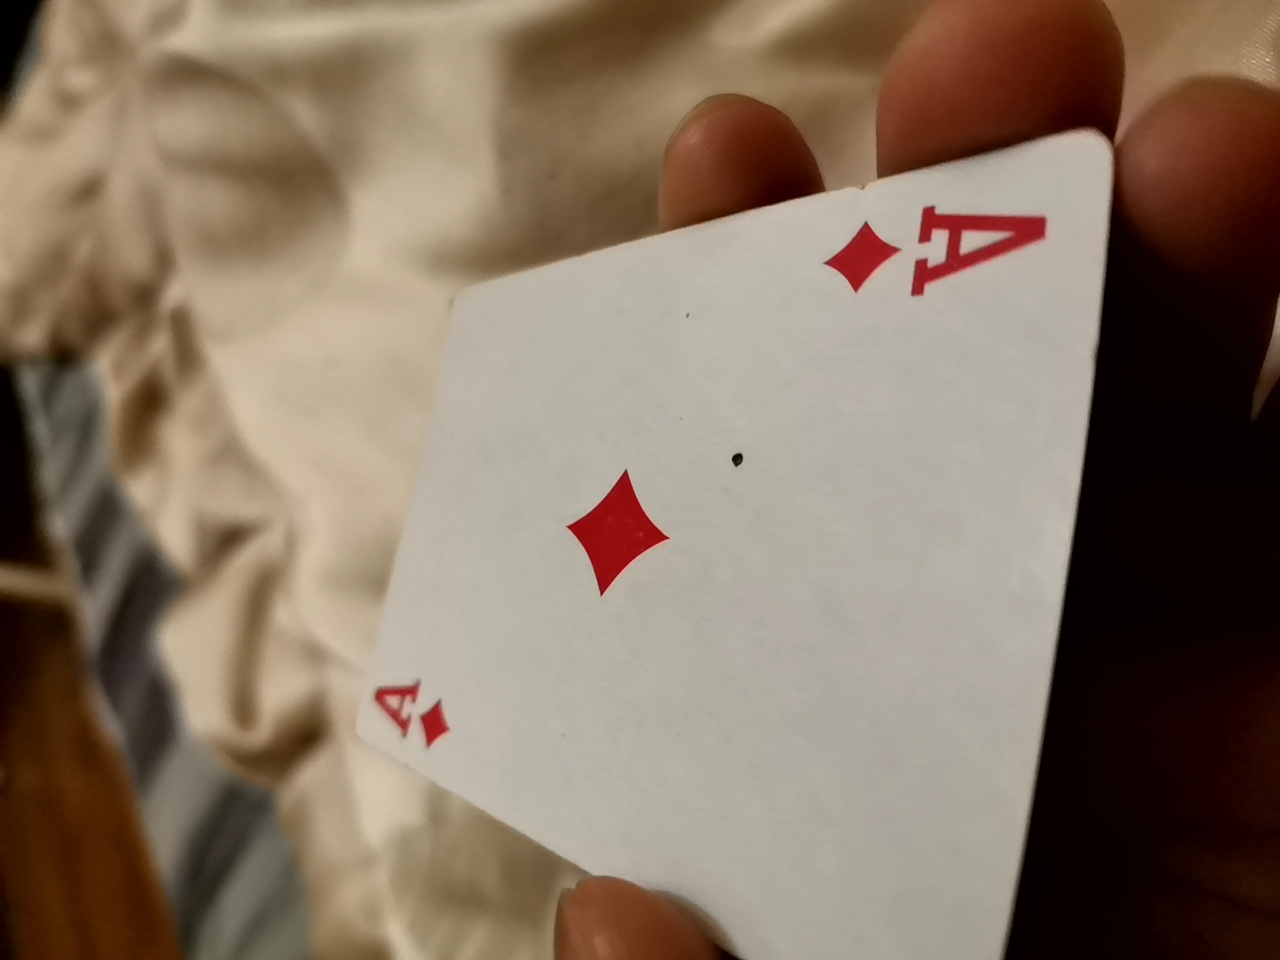fk a: (318, 142, 1104, 959)
